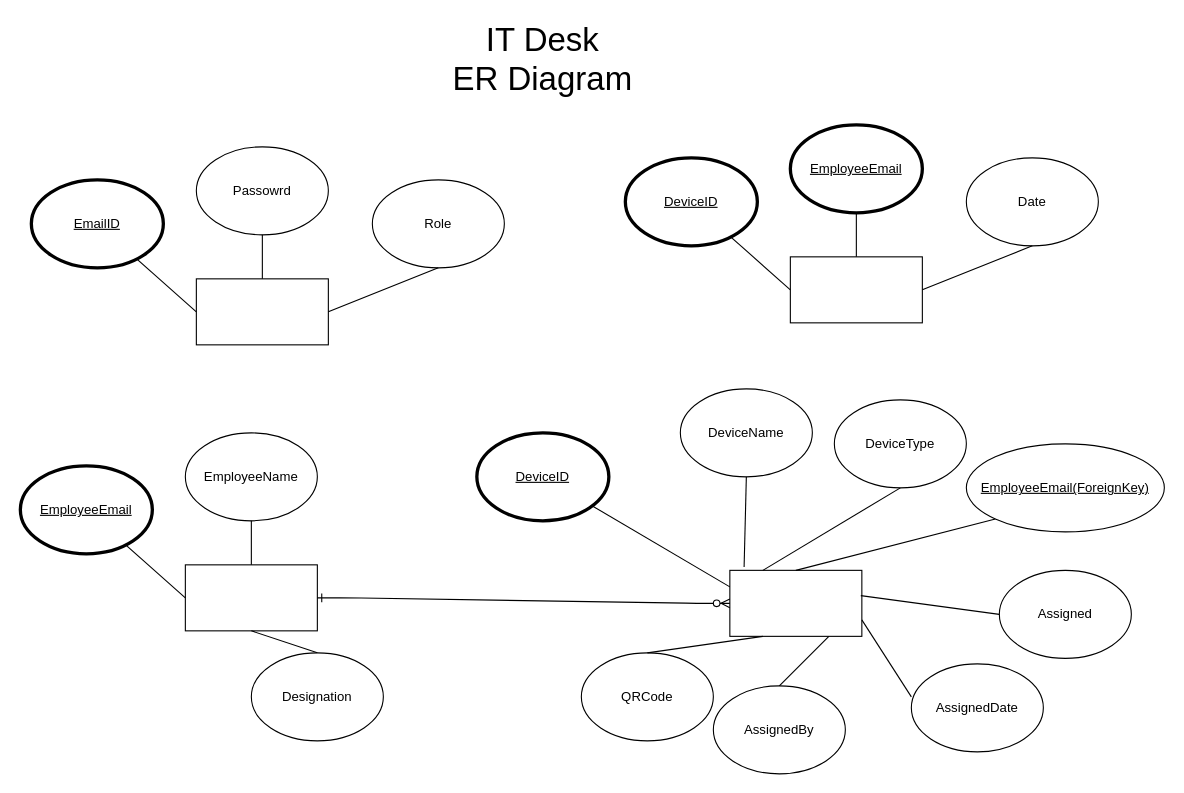
Some shapes in this 1184 by 793 pixel diagram are drawn without their labels. The shapes that lost their labels are listed below. From the top down, each one's centre as x and y in pixels, then its label:
At pixel 855 289: "History".
At pixel 261 311: "LoginInfo".
At pixel 250 597: "EmployeeTable".
At pixel 795 602: "DeviceTable".
